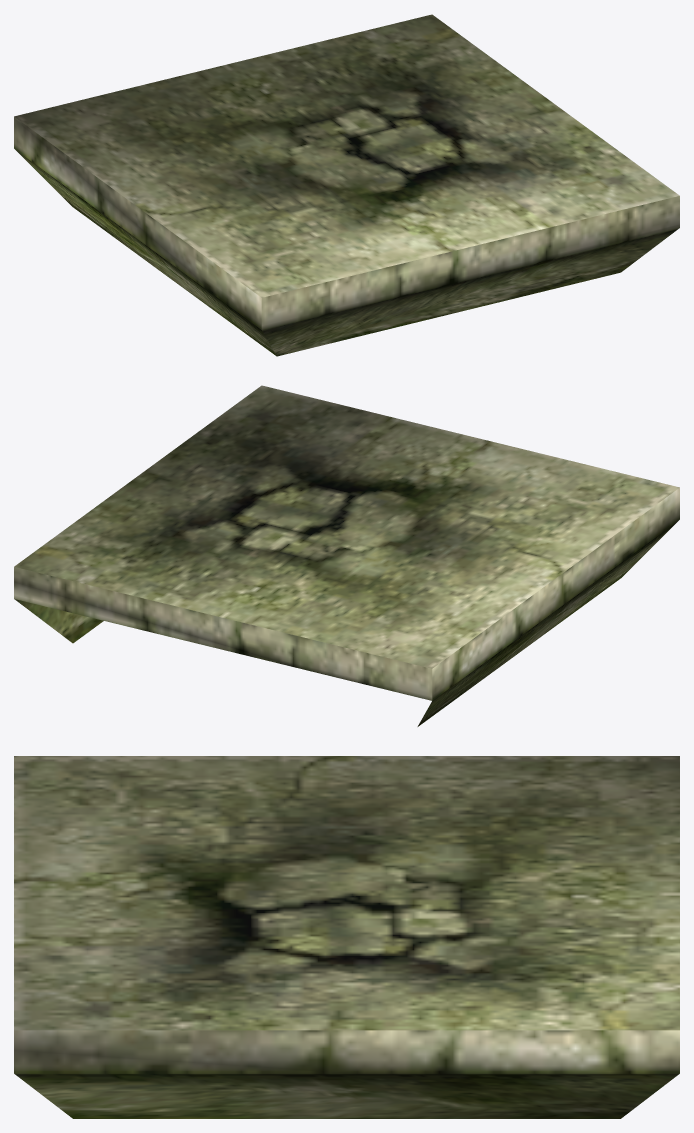
File: stst145.dae
3 views of the same model, one above another, from view 1: azimuth 30°, elevation 25°; view 2: azimuth 150°, elevation 25°; view 3: azimuth 270°, elevation 25° (orthographic). The views are drawn at different scales.
Visible parts, largest first — view 1: base; view 2: base; view 3: base.
Part boxes in pixels (x1=…): base: x1=14, y1=14, x2=679, y2=356; base: x1=14, y1=385, x2=679, y2=726; base: x1=14, y1=756, x2=679, y2=1118.
Bounding box in the file's own units: 1.25 × 1.28 × 0.2398.
Materials: 1 (1 with a texture image).
